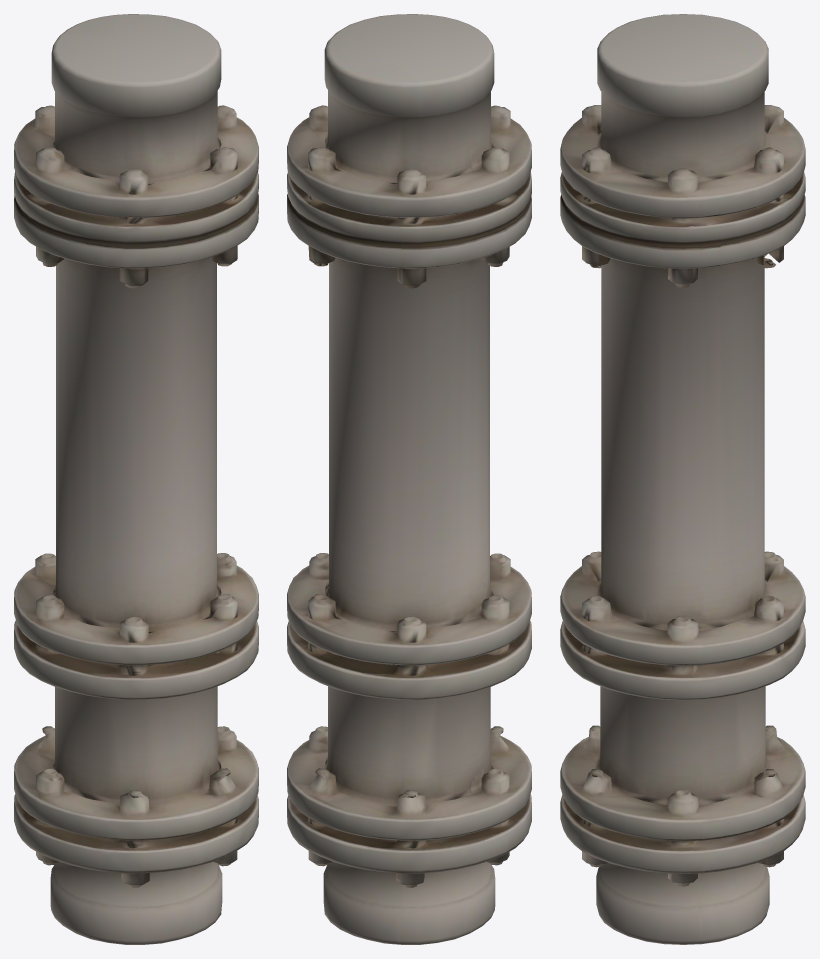
Rendered from industrial_pipe_cb740c0c_v2.glb.
3 views of the same model, side by side, from view 1: azimuth 30°, elevation 25°; view 2: azimuth 150°, elevation 25°; view 3: azimuth 270°, elevation 25° (orthographic).
Visible parts, largest first — view 1: material; view 2: material; view 3: material.
Boxes of the visible parts, left/top/right/bottom form: material: left=14, top=14, right=258, bottom=944; material: left=287, top=14, right=531, bottom=944; material: left=560, top=14, right=805, bottom=944.
Size of the model in its own units: 0.4941 by 1.9 by 0.4901.
Materials: 1 (1 with a texture image).
